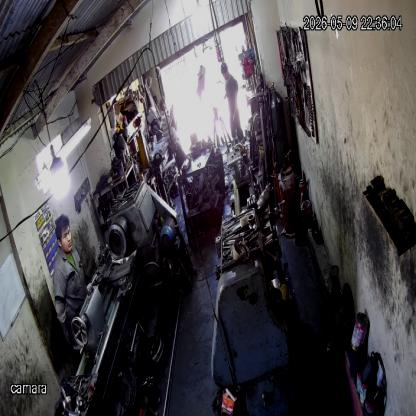sin_lentes: (59, 228, 72, 240)
